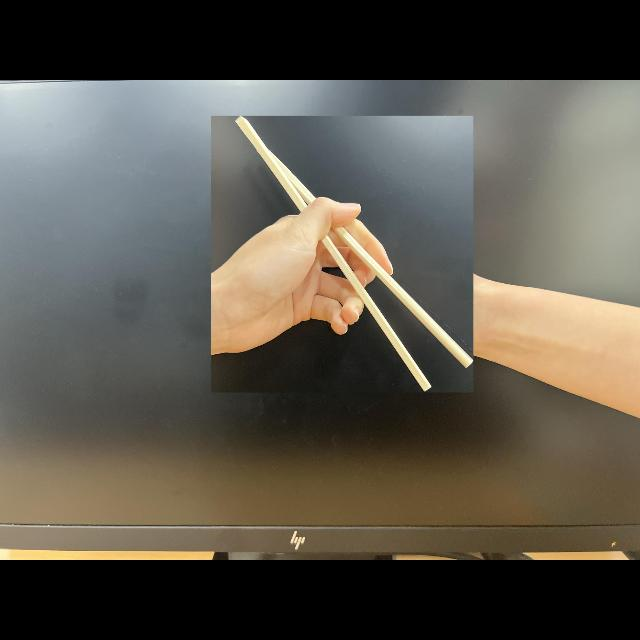stick: (212, 116, 474, 392)
